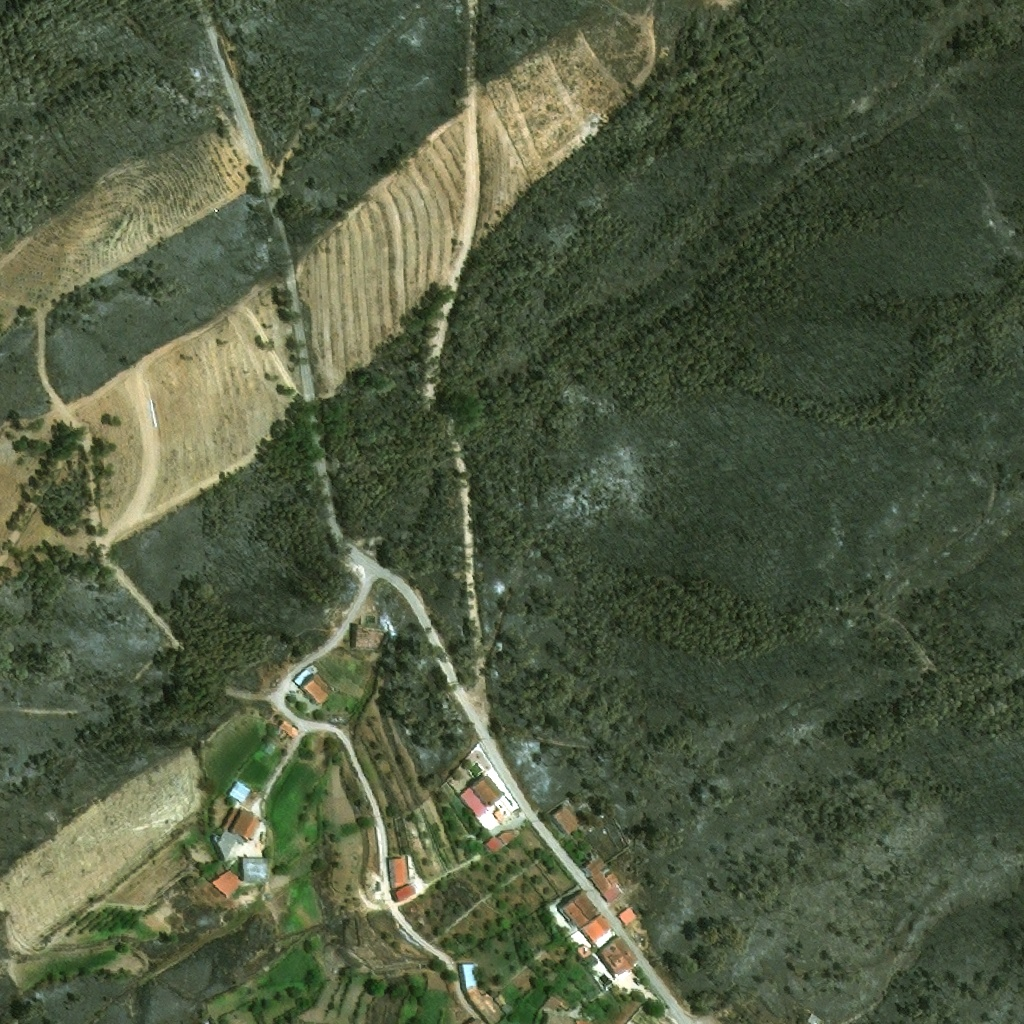0 no-damage: (211, 806, 262, 863), (458, 963, 502, 1023), (458, 774, 503, 817), (597, 936, 639, 979), (557, 890, 601, 929), (294, 664, 334, 706), (580, 914, 617, 950), (590, 869, 625, 904), (539, 994, 575, 1023), (239, 856, 272, 883), (228, 779, 259, 807), (211, 870, 242, 896), (549, 807, 577, 835), (388, 857, 408, 888), (278, 718, 301, 741), (391, 885, 416, 903), (581, 859, 606, 876), (617, 908, 638, 925), (485, 835, 503, 853), (498, 828, 517, 845), (493, 993, 507, 1006), (501, 1004, 512, 1014)
1 minor-damage: (350, 623, 390, 651)
